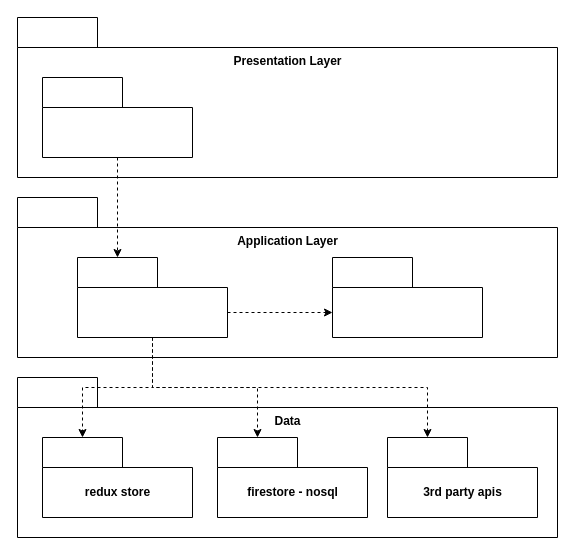
This 575x555 diagram has some shape labels left out. Here are the shapes that lost their labels. From the top down, the centre of each, then its label:
the point at 117,117: screens
the point at 152,297: components
the point at 407,297: assets
